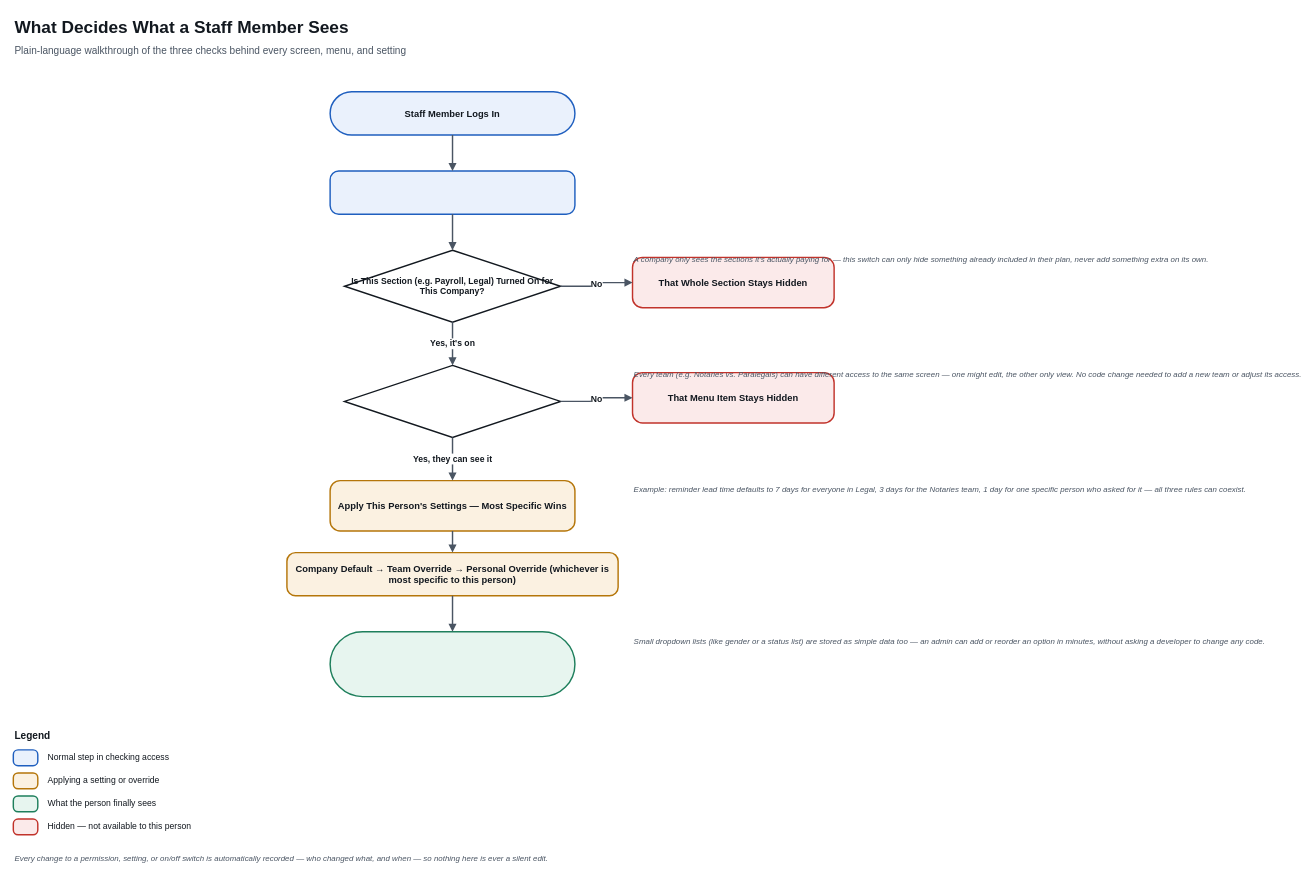
Image size: 1314x890. Some labels were removed from this diagram. Each missing label, with the centre of its shape:
"Does Their Team Have Permission to View / Edit This Screen?" goes at (x=452, y=401).
"Screen Shows Exactly What This Person Should See — Nothing More, Nothing Less" goes at (x=452, y=664).
"System Looks Up Which Team(s) They Belong To" goes at (x=452, y=192).
